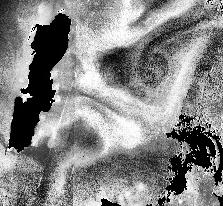CE: (126, 45, 177, 96)
